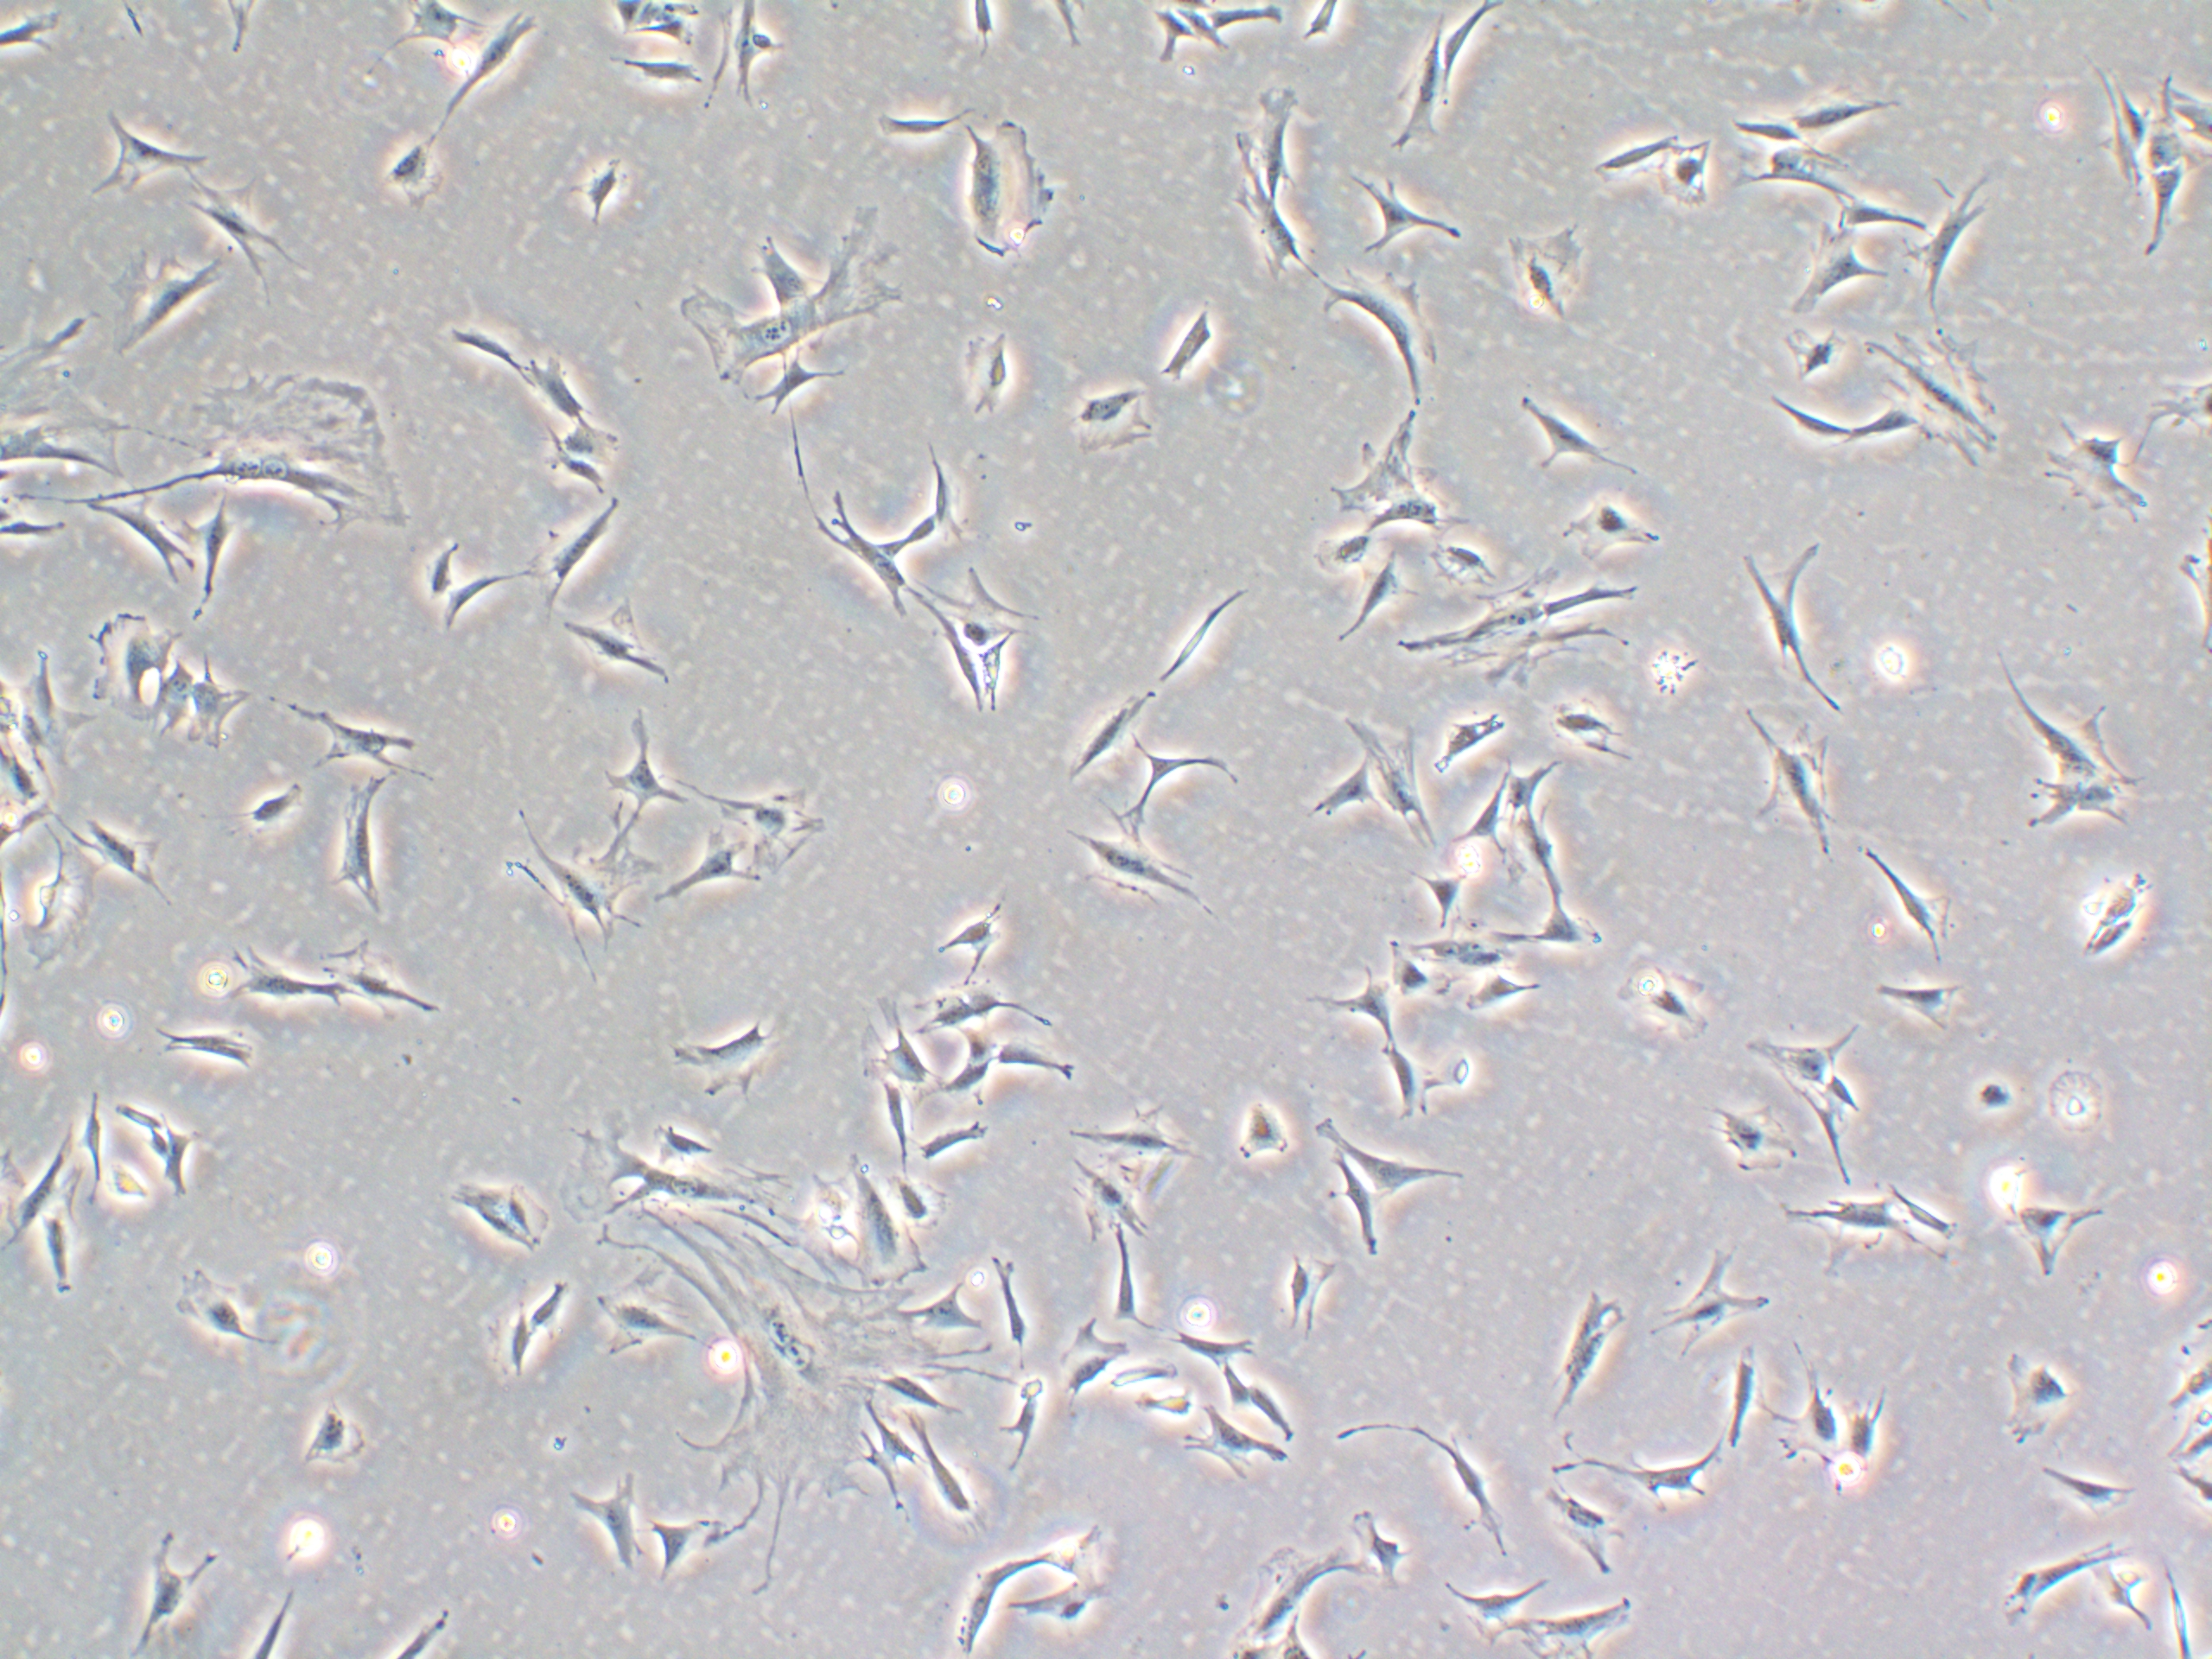polygonal: (1313, 1403, 1514, 1554), (1726, 528, 1860, 718), (509, 810, 658, 969), (1315, 260, 1453, 415), (1738, 701, 1851, 873), (665, 775, 836, 885), (1338, 706, 1447, 871), (1069, 803, 1212, 929), (1994, 653, 2137, 779), (91, 247, 240, 364), (148, 1265, 294, 1382), (82, 784, 200, 925), (1850, 840, 1986, 962), (1299, 1112, 1475, 1206), (1959, 1344, 2092, 1467), (808, 481, 921, 626), (1545, 1420, 1724, 1506), (428, 7, 554, 129), (1334, 153, 1465, 270), (247, 699, 441, 777), (1778, 1188, 1928, 1288), (190, 173, 298, 310), (1655, 1241, 1785, 1354), (1907, 166, 2005, 317), (324, 934, 474, 1030), (1749, 1007, 1860, 1134), (1209, 148, 1318, 277), (942, 1540, 1055, 1659), (519, 486, 641, 594), (881, 1412, 986, 1537), (557, 1462, 655, 1595), (1508, 385, 1635, 484), (124, 1527, 225, 1650), (1986, 1546, 2144, 1624), (324, 767, 397, 936), (664, 1000, 784, 1101), (1155, 566, 1252, 690), (895, 592, 988, 723), (434, 1173, 564, 1263), (85, 493, 200, 594), (1224, 70, 1312, 202), (219, 939, 355, 1023), (2012, 770, 2153, 850), (1777, 220, 1878, 328), (171, 484, 253, 617), (1047, 1152, 1163, 1244), (87, 110, 206, 200), (1285, 744, 1395, 842), (554, 598, 667, 692), (1618, 965, 1747, 1047), (578, 1267, 707, 1349), (1554, 1276, 1622, 1431), (1426, 0, 1515, 117), (1512, 1588, 1656, 1659), (1521, 1488, 1632, 1581), (1059, 1098, 1214, 1164), (1130, 728, 1244, 819), (1059, 676, 1157, 781), (1742, 145, 1878, 218), (594, 709, 683, 821), (1989, 1197, 2107, 1281), (657, 828, 763, 920), (1317, 1150, 1395, 1274), (1331, 545, 1416, 659), (1564, 112, 1672, 199), (470, 1302, 559, 1406), (2034, 1450, 2156, 1525), (1780, 91, 1911, 160), (425, 559, 538, 640), (1505, 807, 1590, 913), (1709, 1101, 1810, 1190), (1390, 2, 1446, 162), (597, 40, 735, 105), (848, 999, 944, 1091), (1834, 1373, 1900, 1506), (1705, 1342, 1780, 1459), (1296, 962, 1399, 1044), (150, 1021, 266, 1093), (1855, 972, 1984, 1037), (1737, 314, 1850, 387), (120, 652, 209, 742), (293, 1382, 376, 1478), (1832, 176, 1947, 246), (864, 89, 988, 153), (1151, 293, 1231, 390), (1426, 1574, 1554, 1635), (1785, 1352, 1846, 1480), (958, 979, 1082, 1040), (1423, 697, 1508, 784), (930, 889, 1021, 971), (1460, 957, 1554, 1035), (1883, 1169, 1968, 1255), (1055, 383, 1146, 464), (918, 429, 979, 547), (179, 641, 240, 760), (2137, 157, 2203, 265), (1538, 695, 1635, 769), (1057, 1310, 1122, 1420), (641, 1495, 716, 1588), (380, 127, 453, 221), (428, 310, 526, 380), (1367, 938, 1465, 1007), (993, 1032, 1097, 1096), (1442, 774, 1512, 868), (982, 1246, 1040, 1359), (519, 1256, 592, 1345), (993, 1375, 1052, 1478), (1487, 756, 1568, 831), (1536, 889, 1608, 972), (1157, 1323, 1263, 1378), (1707, 99, 1820, 152), (906, 1276, 989, 1345), (1430, 523, 1503, 601), (1761, 387, 1850, 451), (1230, 1086, 1294, 1173), (510, 347, 583, 423), (855, 1082, 918, 1171), (1240, 1363, 1305, 1445), (1407, 857, 1477, 932), (1113, 1225, 1157, 1338), (1305, 519, 1378, 586), (564, 152, 632, 221), (883, 1171, 951, 1241), (918, 1108, 996, 1168), (1846, 399, 1923, 458), (639, 1115, 714, 1175), (418, 532, 470, 606), (1273, 1249, 1308, 1328), (1211, 1354, 1251, 1415)
small-round: (37, 1197, 99, 1321), (146, 1115, 219, 1211), (211, 779, 305, 849), (2052, 1051, 2123, 1136), (98, 1157, 167, 1230), (68, 1068, 106, 1197), (1860, 626, 1918, 694), (1130, 1389, 1207, 1436), (1432, 1042, 1494, 1098)
spread: (664, 1218, 937, 1527), (143, 361, 413, 552), (657, 188, 900, 394), (1390, 552, 1655, 695), (1871, 312, 2022, 474), (953, 106, 1073, 279), (1322, 408, 1467, 538), (80, 601, 179, 725), (1501, 214, 1597, 336)
